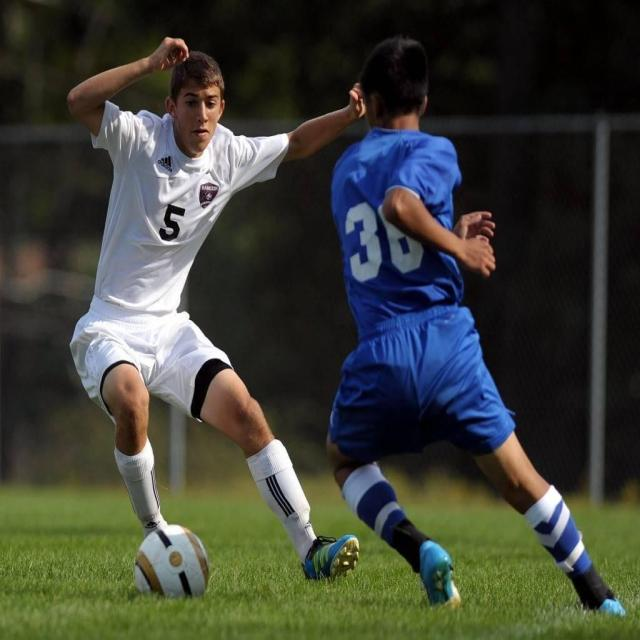Face: (175, 71, 227, 152)
